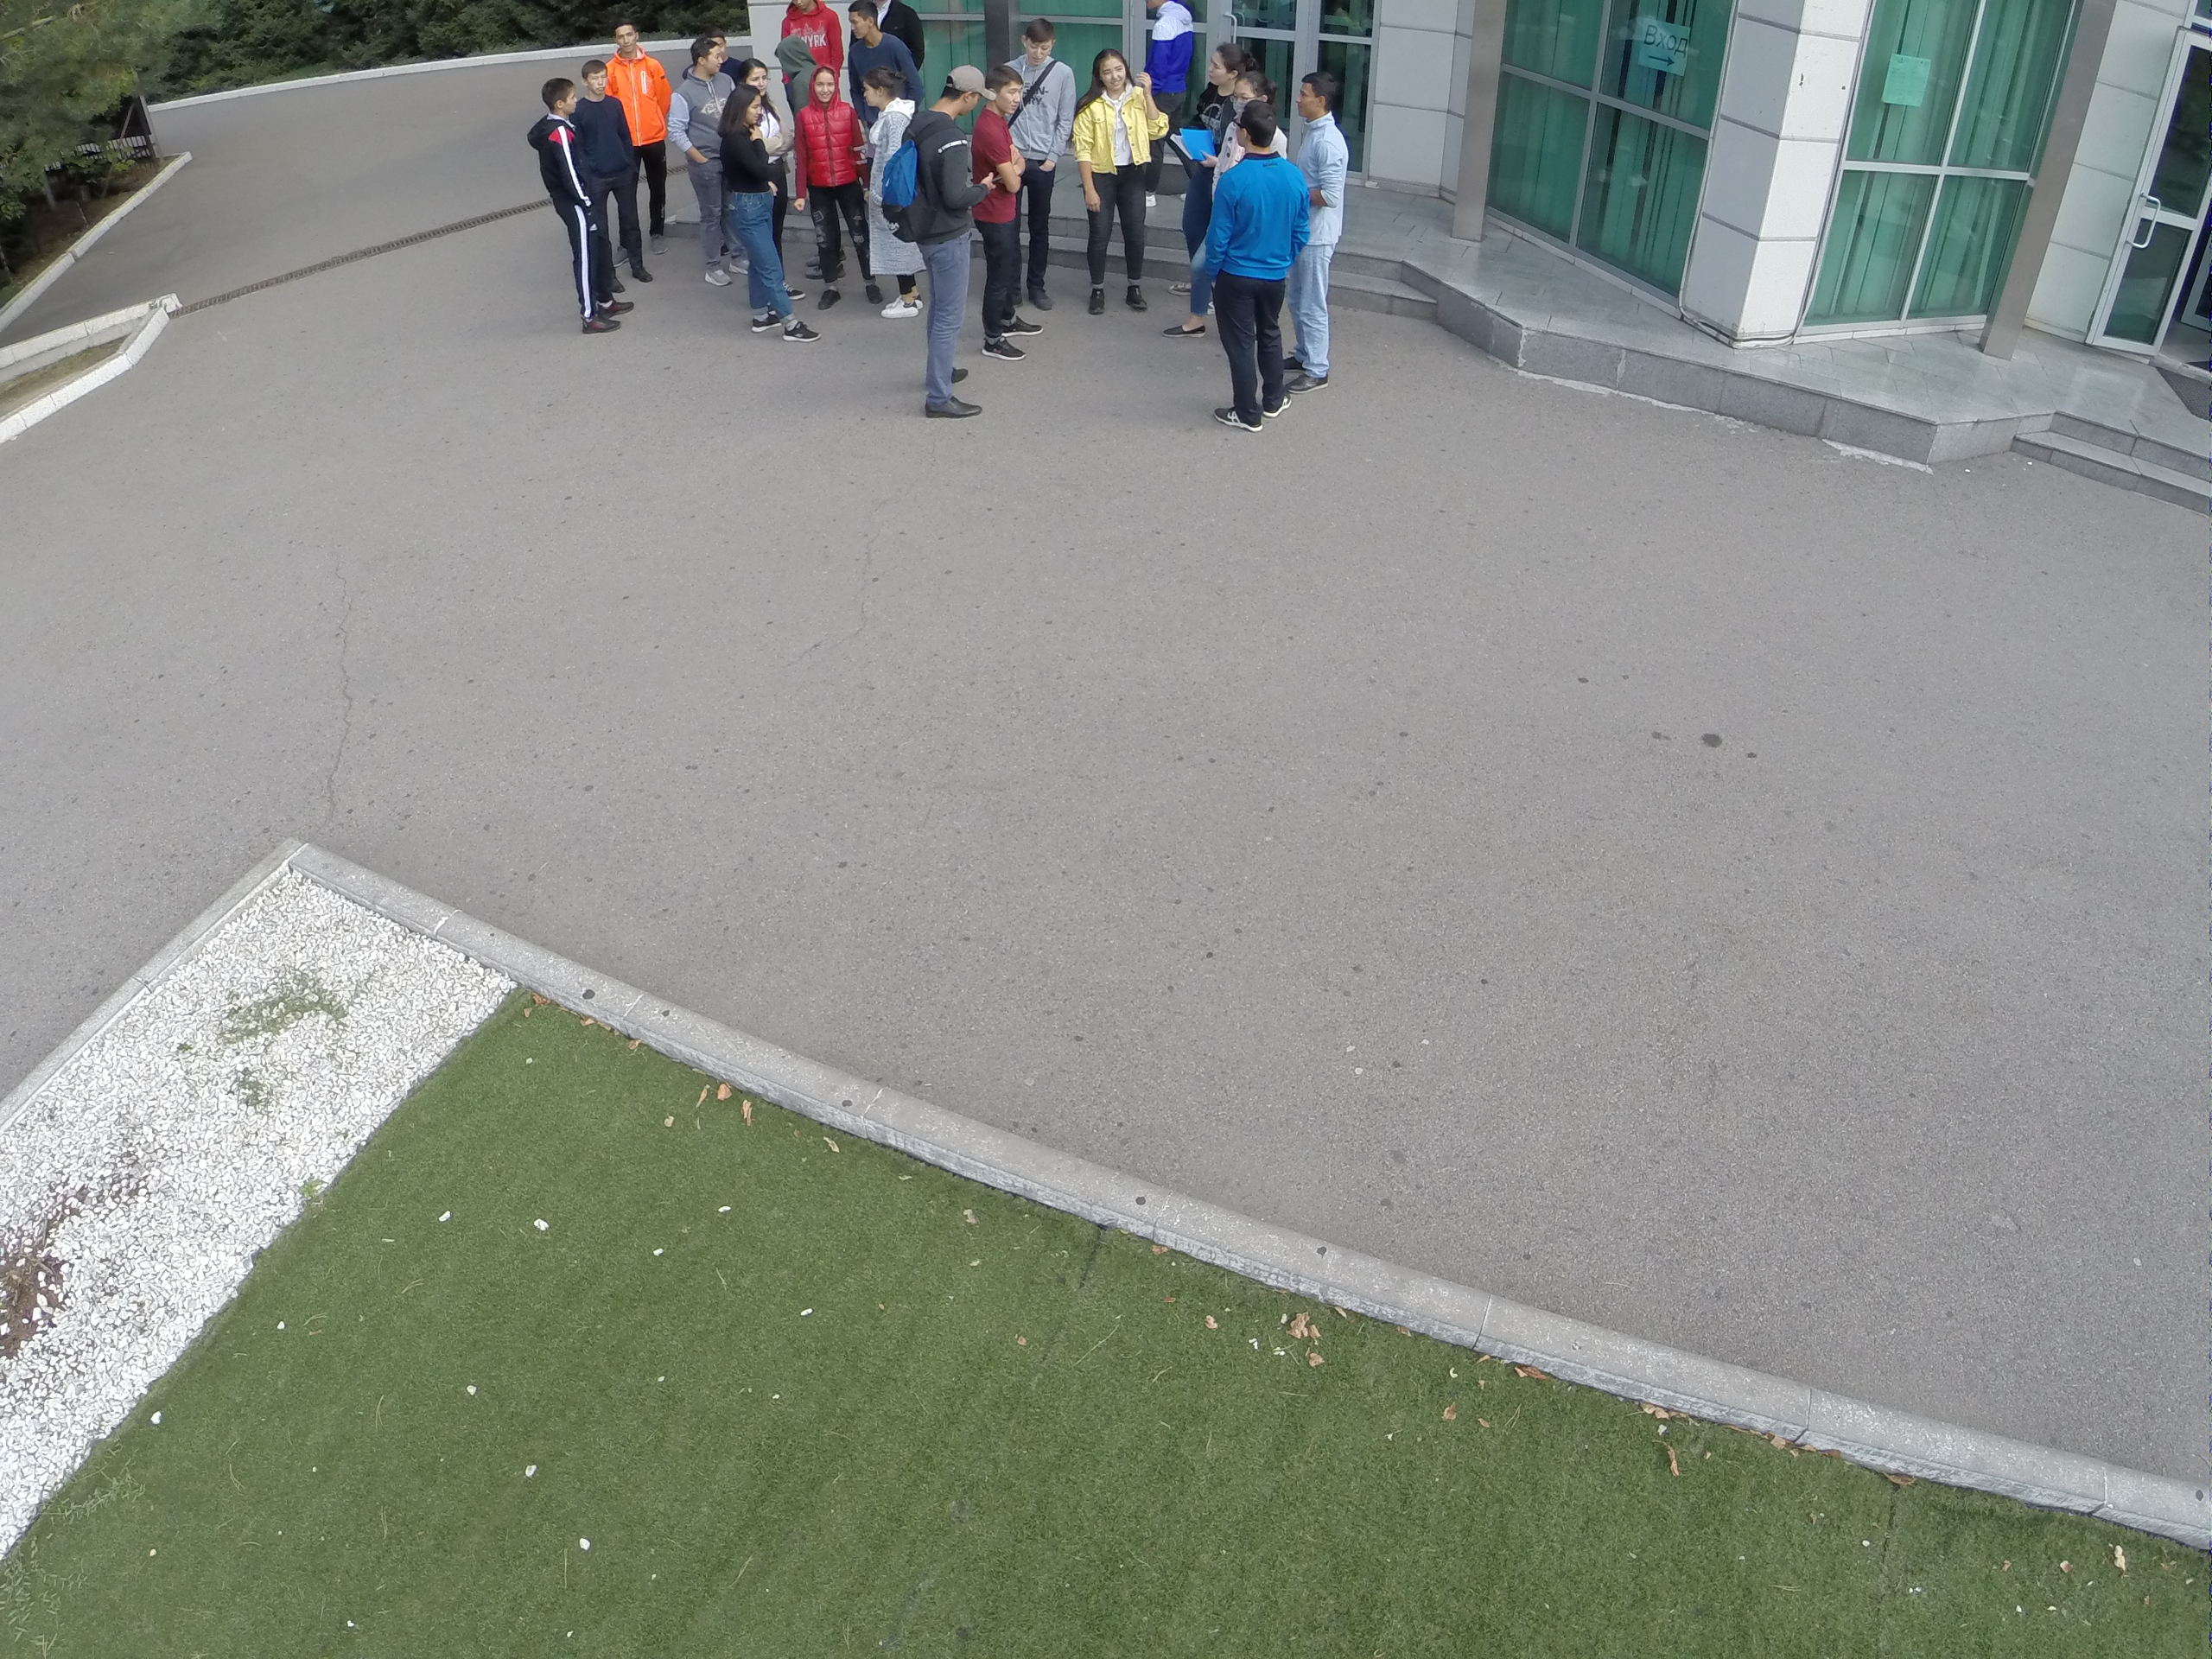person: (890, 69, 982, 423), (1203, 107, 1296, 435), (531, 85, 623, 334), (728, 99, 814, 346), (798, 67, 877, 315), (577, 54, 653, 280), (1085, 51, 1152, 313), (1025, 10, 1075, 303), (869, 74, 931, 306), (1301, 64, 1344, 374), (679, 47, 734, 285), (988, 82, 1037, 341), (618, 21, 671, 234)
